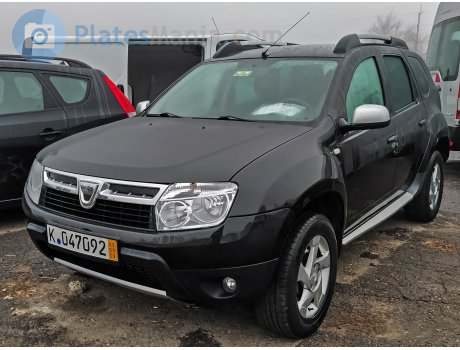License Plates: (47, 231, 104, 253)
